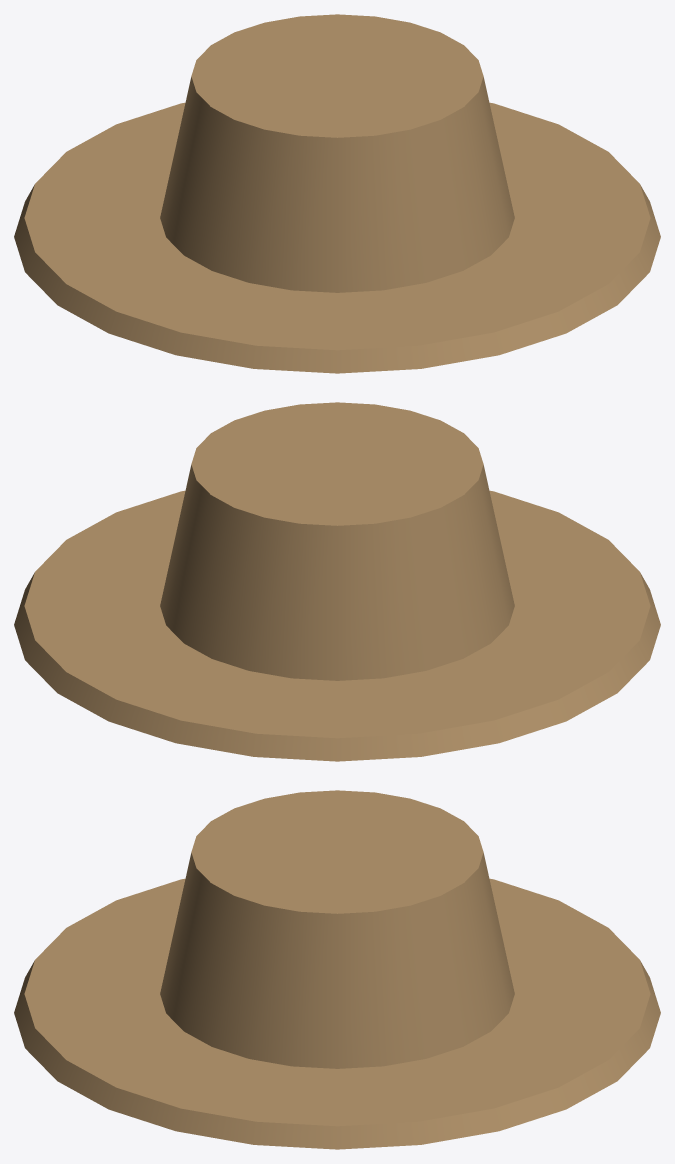
File: cowboy.glb
3 views of the same model, one above another, from view 1: azimuth 30°, elevation 25°; view 2: azimuth 150°, elevation 25°; view 3: azimuth 270°, elevation 25° (orthographic).
Visible parts, largest first — view 1: cowboy; view 2: cowboy; view 3: cowboy.
Part boxes in pixels (x1,y1,x2,y2): cowboy: [14, 14, 660, 373]; cowboy: [14, 402, 660, 761]; cowboy: [14, 790, 660, 1149].
Bounding box in the file's own units: 1.24 × 0.34 × 1.24.
